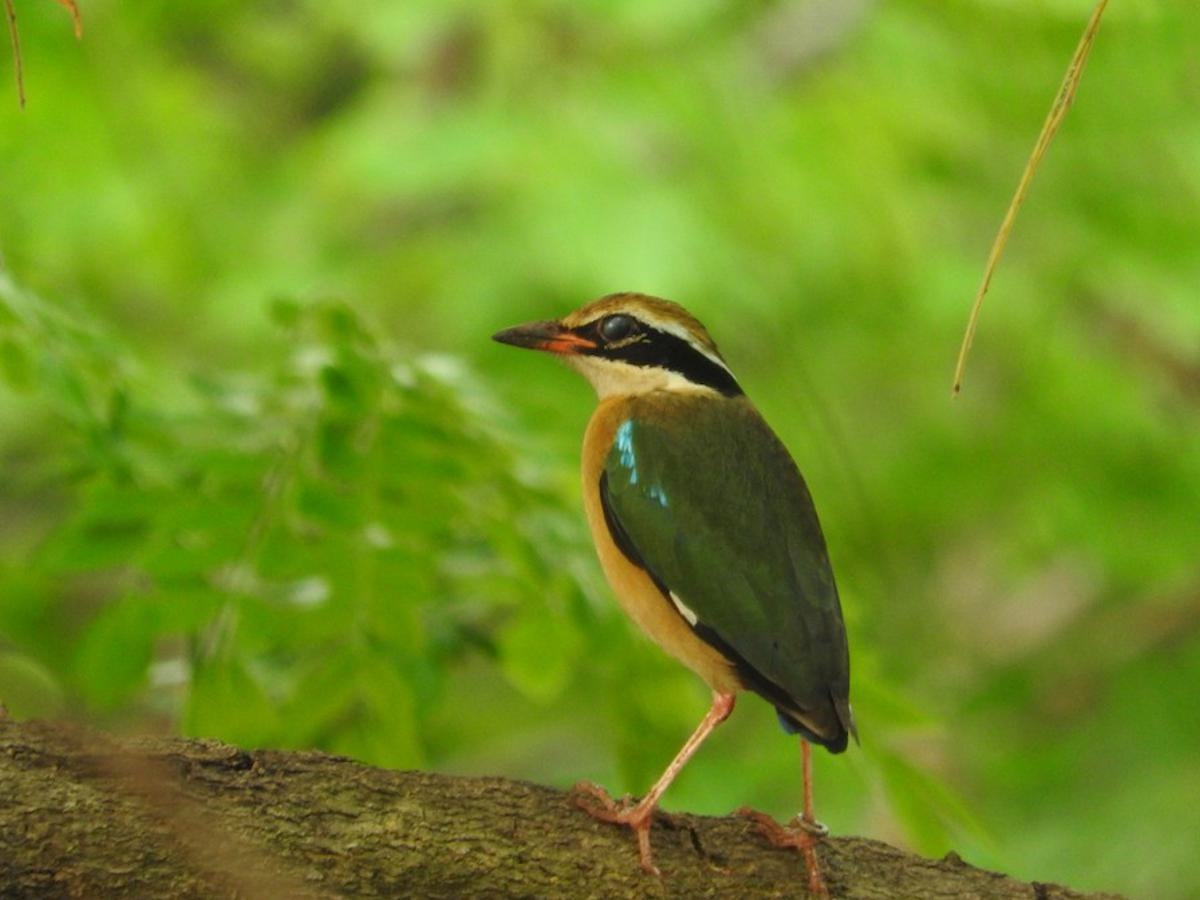pitta: (451, 258, 946, 871)
